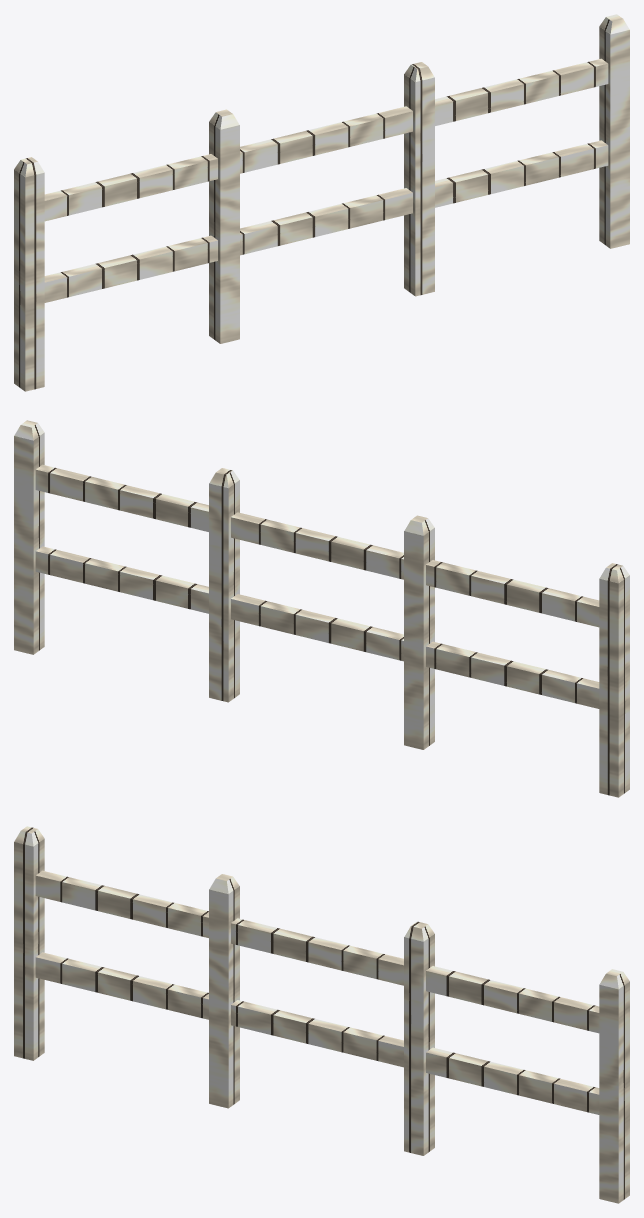
Rendered from staccionata.obj.
3 renders of one model, top to bottom at view 1: azimuth 30°, elevation 25°; view 2: azimuth 150°, elevation 25°; view 3: azimuth 330°, elevation 25°, orthographic.
Visible parts, largest first — view 1: legno_001, legno_000; view 2: legno_001, legno_000; view 3: legno_001, legno_000.
Boxes of the visible parts, <box> form: legno_001: <box>14,14,629,302</box>; legno_000: <box>14,26,629,391</box>; legno_001: <box>14,420,629,708</box>; legno_000: <box>14,432,629,797</box>; legno_001: <box>14,826,629,1114</box>; legno_000: <box>14,838,629,1203</box>.
Size of the model in its own units: 3.1 by 1.1 by 0.1.
Materials: 2 (2 with a texture image).
